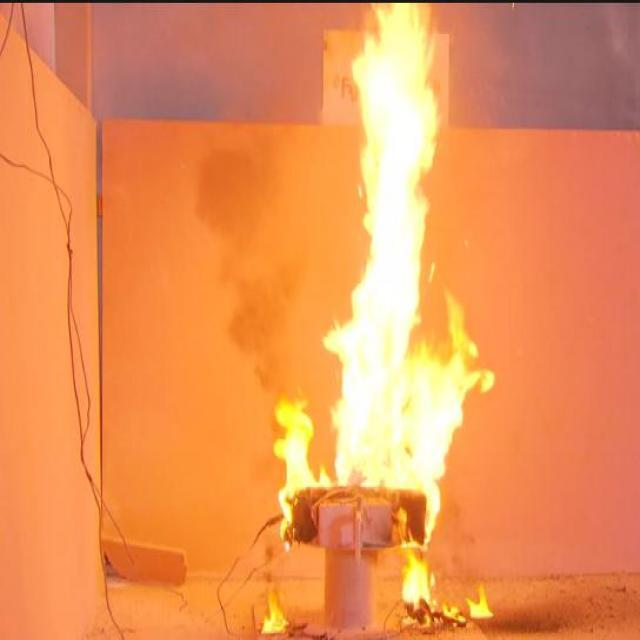Fire: (322, 2, 493, 556), (275, 394, 331, 542), (403, 550, 437, 612), (262, 592, 285, 632)
